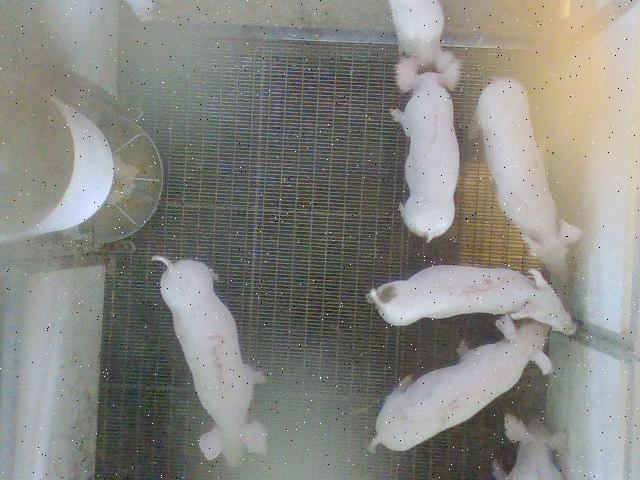pig-3: (152, 257, 268, 466)
pig-5: (368, 265, 576, 335)
